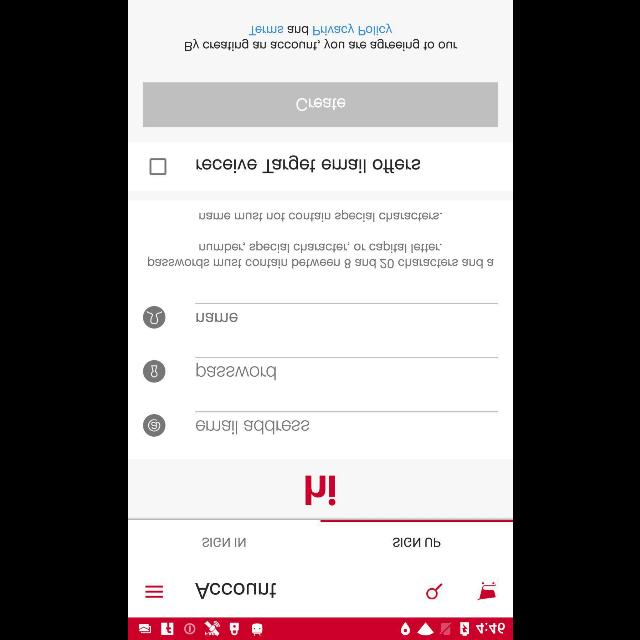checkbox: (148, 158, 166, 176)
icon: (142, 414, 166, 436), (142, 306, 166, 328), (476, 582, 496, 600), (426, 582, 442, 600), (144, 584, 162, 598)
image: (142, 360, 166, 382)
input: (195, 411, 498, 435), (195, 357, 498, 381), (195, 304, 498, 322)
text: (147, 241, 493, 269), (184, 23, 456, 51), (196, 154, 420, 173), (198, 210, 442, 222), (195, 420, 308, 434), (196, 362, 274, 380), (195, 583, 275, 599), (304, 474, 336, 506), (392, 537, 440, 547), (201, 537, 245, 547), (196, 314, 238, 322)
textbutton: (142, 82, 498, 128), (313, 24, 392, 36), (248, 25, 282, 35)
uppertaskbar: (128, 617, 512, 639)
